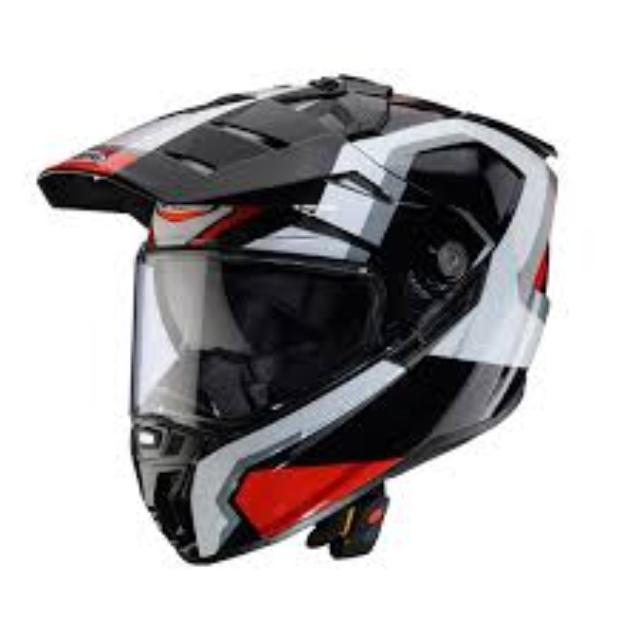motorcycle-helmets: (26, 71, 586, 573)
